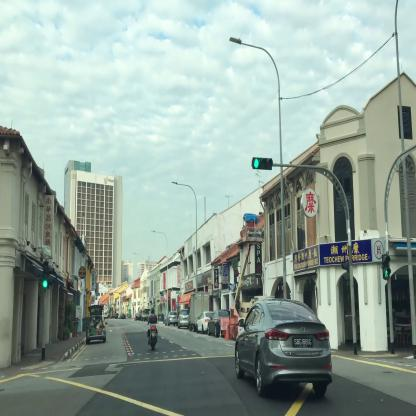green_traffic_light: (252, 157, 272, 170), (42, 263, 48, 287)
